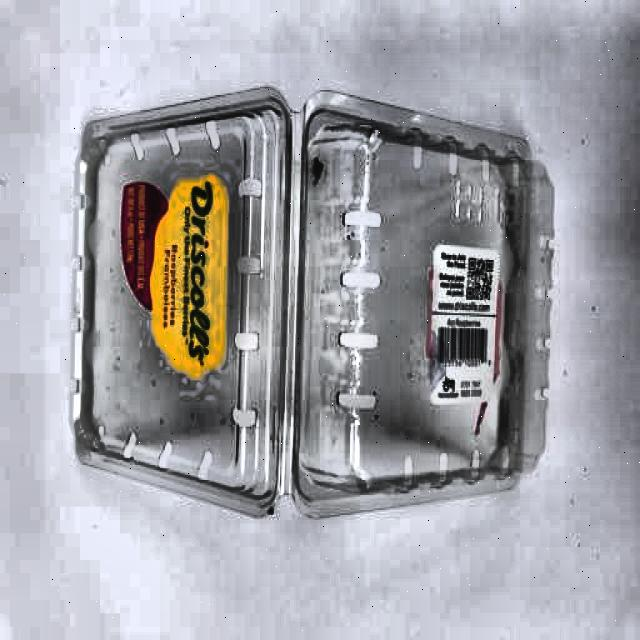plastic: (71, 89, 555, 512)
